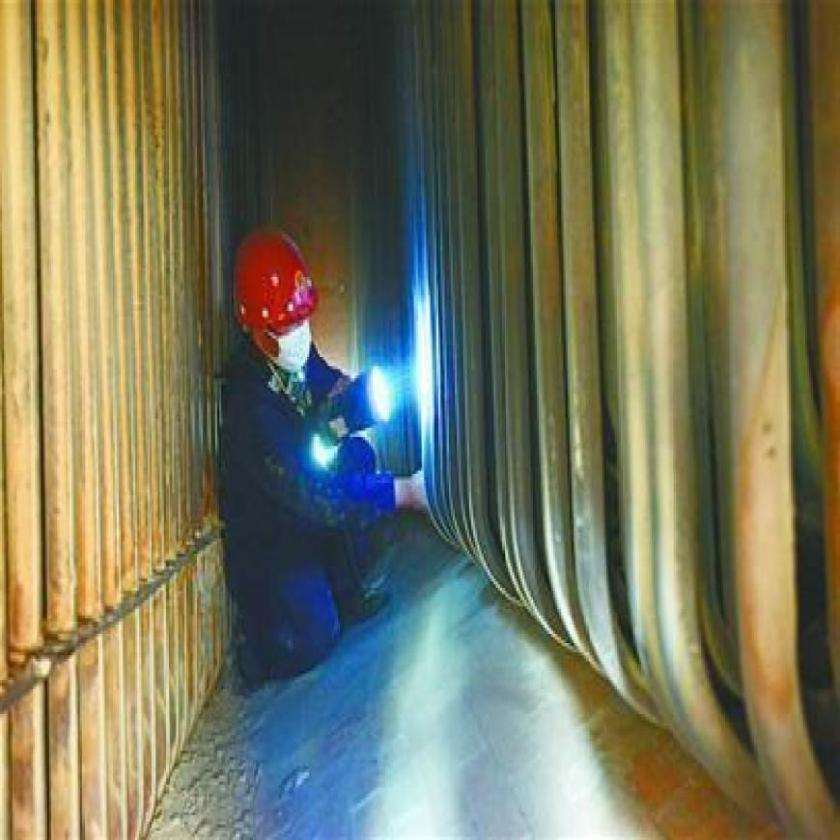Con_casco: (231, 217, 321, 377)
